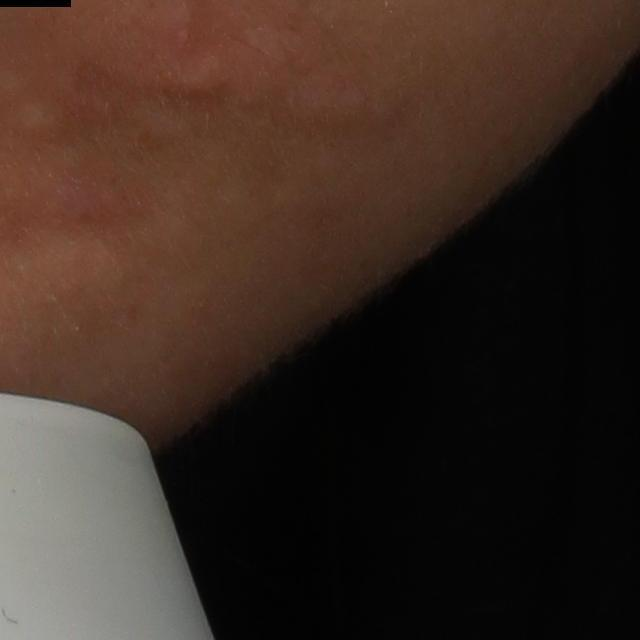hypertrophic_scar: (97, 53, 236, 100), (10, 98, 68, 141)
